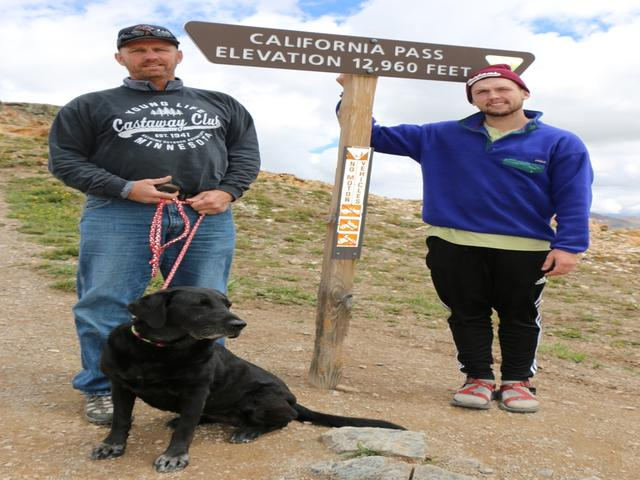dog: (92, 274, 365, 459)
